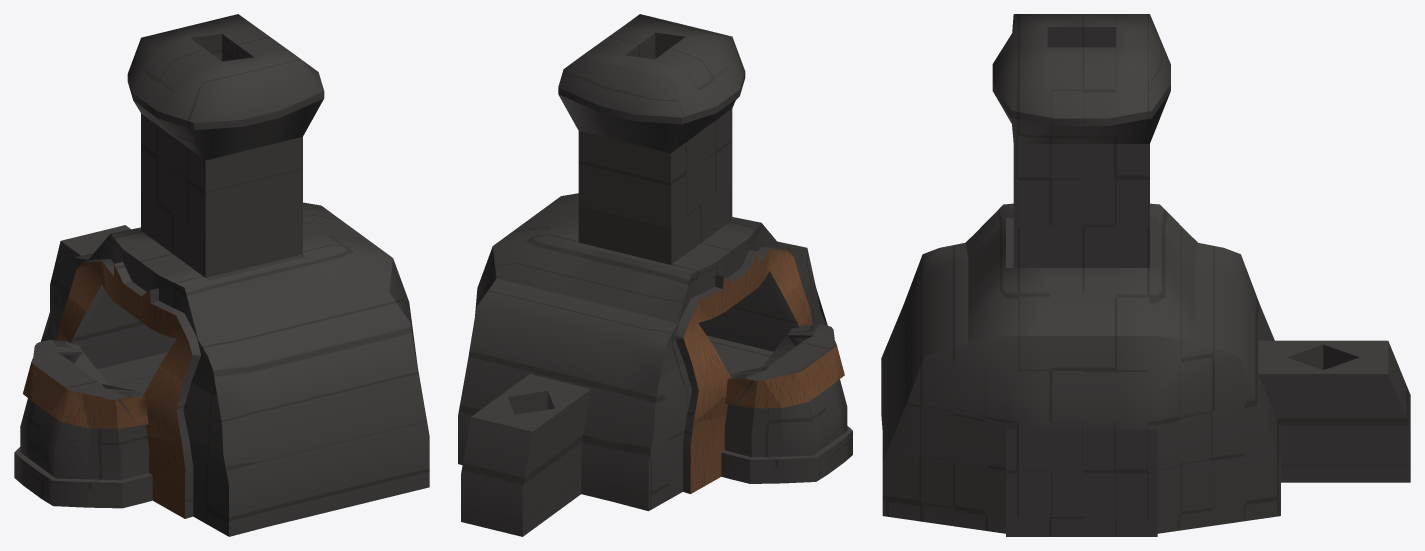
The model's file is Furnace.fbx.
The picture shows the model from 3 angles, left to right: view 1: azimuth 30°, elevation 25°; view 2: azimuth 150°, elevation 25°; view 3: azimuth 270°, elevation 25°; orthographic projection. The views are drawn at different scales.
Visible parts, largest first — view 1: pCube1; view 2: pCube1; view 3: pCube1.
Boxes of the visible parts, <box> form: pCube1: <box>14,14,429,536</box>; pCube1: <box>458,14,852,536</box>; pCube1: <box>881,14,1410,536</box>.
Bounding box in the file's own units: 268 × 298 × 338.
Materials: 2 (2 with a texture image).
